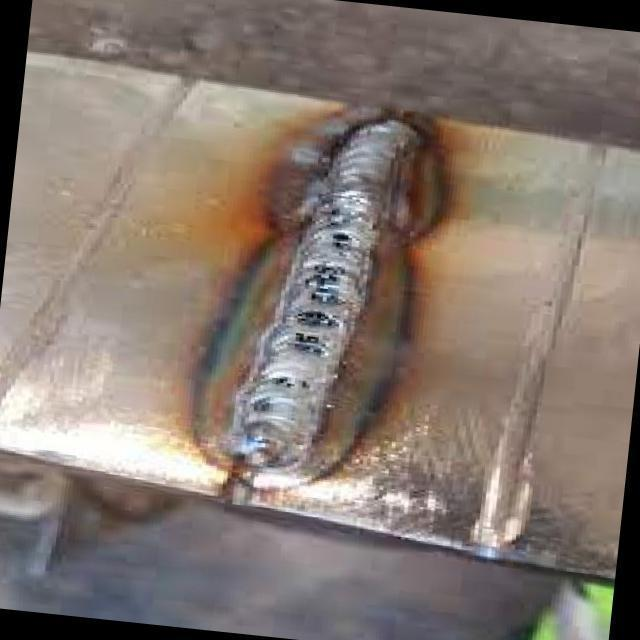defect: (296, 260, 354, 312), (288, 305, 342, 331), (290, 328, 332, 359), (326, 230, 363, 253), (269, 372, 310, 392)
